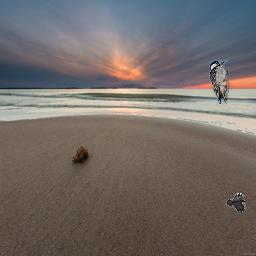Crow: (226, 194, 246, 213)
Woodpecker: (209, 60, 233, 104)
